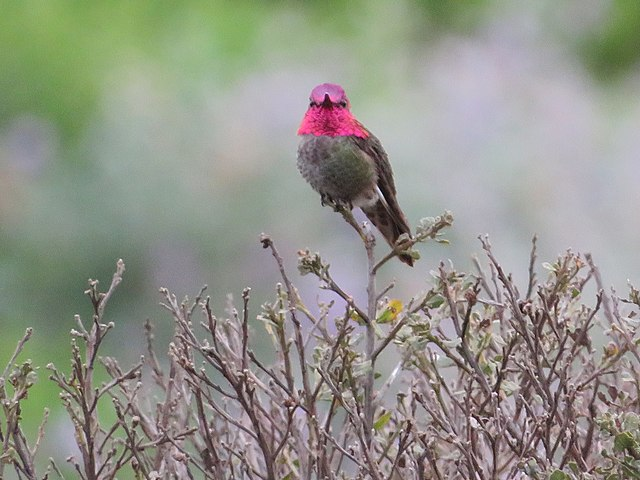calypte anna: (295, 82, 417, 266)
